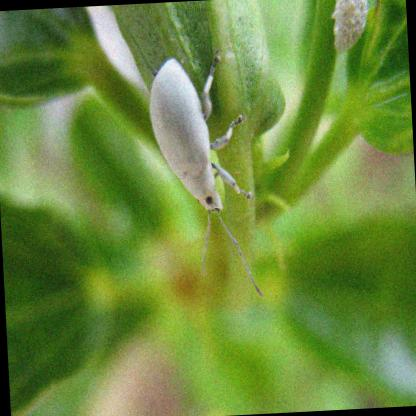ash weevil: (149, 57, 238, 270)
